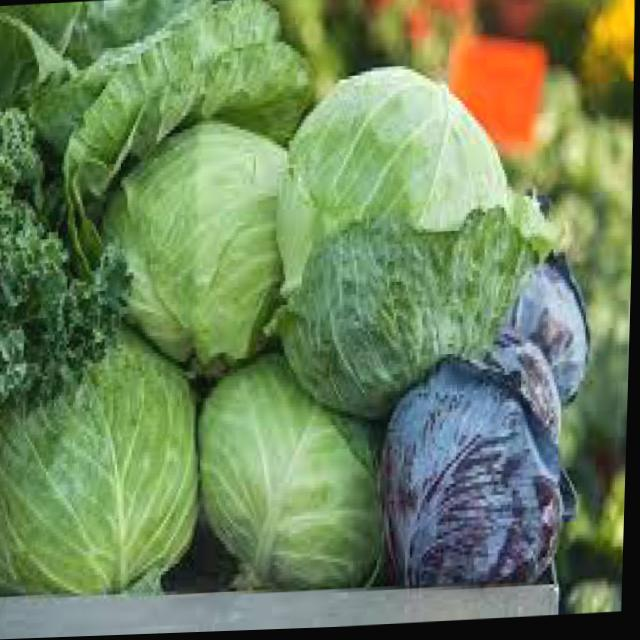Cabbage: (272, 60, 565, 425), (0, 335, 208, 598), (87, 118, 291, 378), (196, 346, 390, 596)
